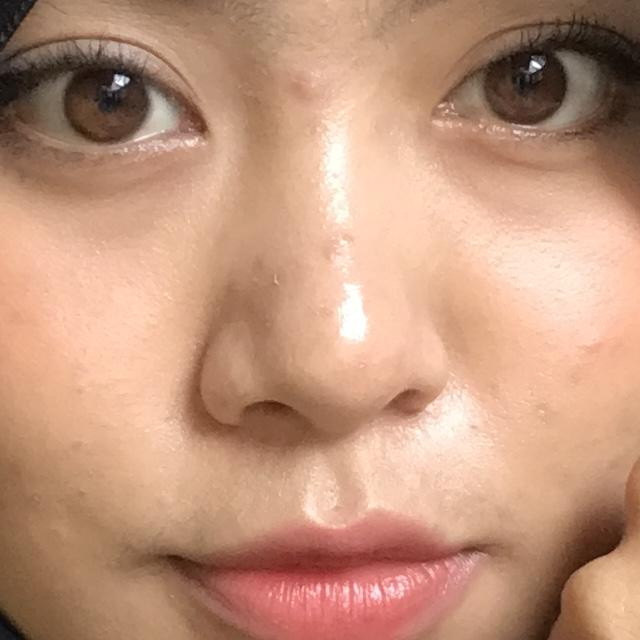telpon: (260, 96, 640, 640)
